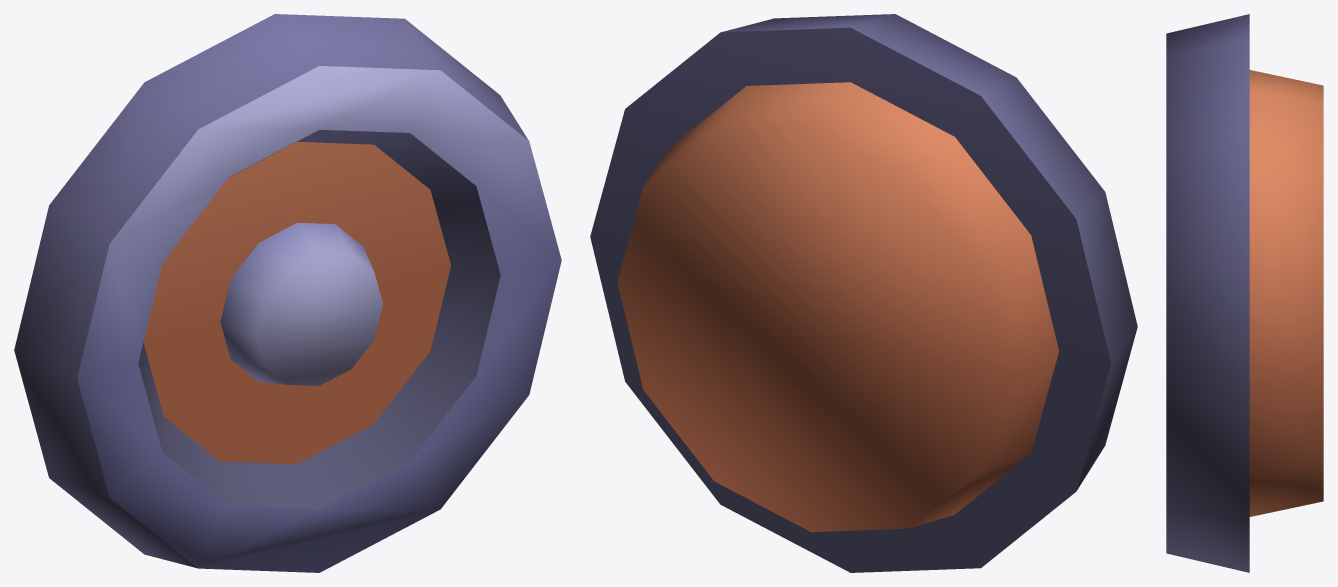
Rendered from shield.glb.
The picture shows the model from 3 angles, left to right: view 1: azimuth 30°, elevation 25°; view 2: azimuth 150°, elevation 25°; view 3: azimuth 270°, elevation 25°; orthographic projection. The views are drawn at different scales.
Visible parts, largest first — view 1: shield-round; view 2: shield-round; view 3: shield-round.
Part boxes in pixels (bbox=[...]): shield-round: bbox=[14, 14, 561, 572]; shield-round: bbox=[590, 14, 1137, 572]; shield-round: bbox=[1166, 14, 1323, 572].
Size of the model in its own units: 0.3797 by 0.3797 by 0.1065.
1 material, 1 textured.
